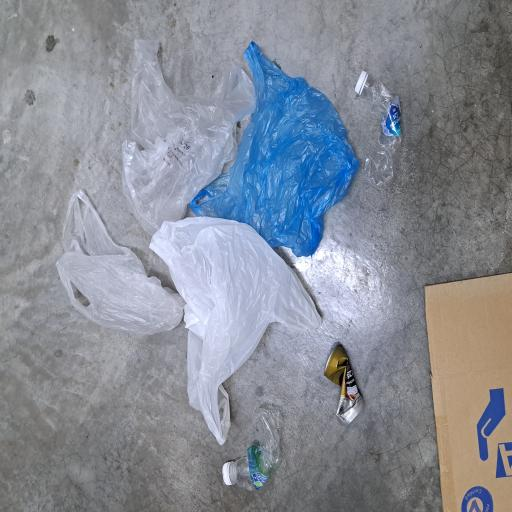can: (63, 431, 127, 486)
plastic bag: (51, 199, 223, 429), (190, 251, 354, 481), (209, 160, 353, 340), (133, 73, 243, 245)
plastic bottle: (15, 308, 77, 378), (243, 482, 326, 512)
plastic bottle cap: (313, 473, 331, 491), (20, 296, 38, 312)
